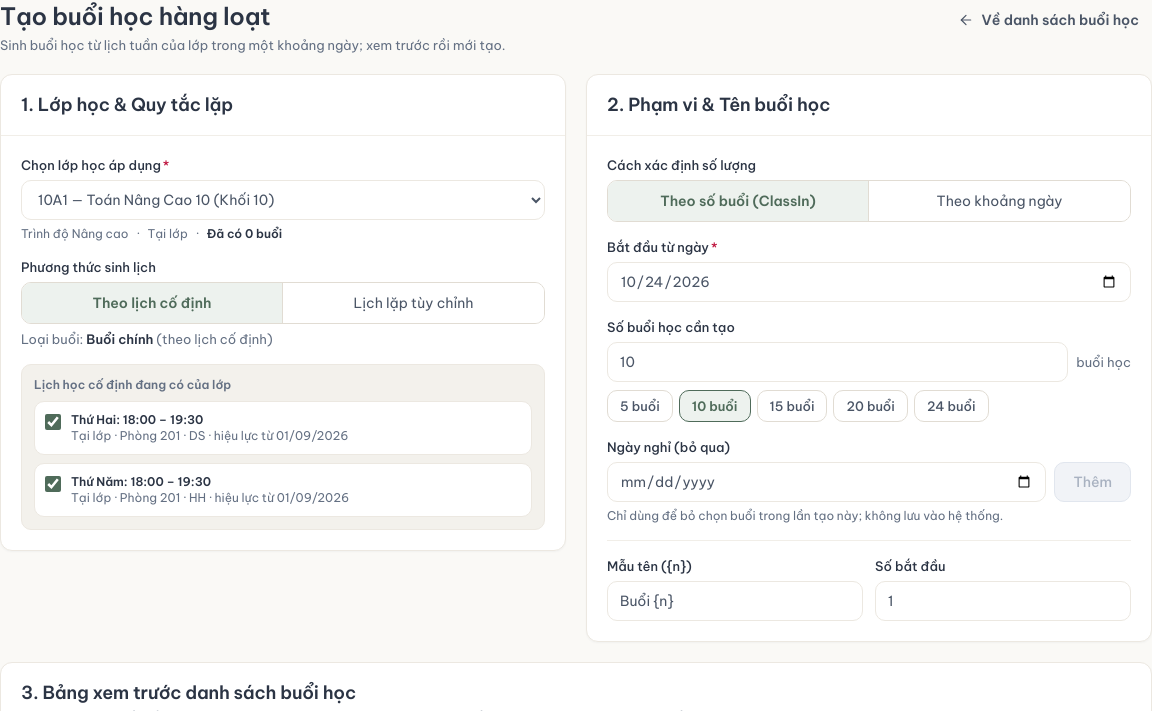
BatchSessionCreateWorkspace › switches to custom recurrence mode and updates preview
Note: Click "Lịch lặp tùy chỉnh"
What coordinates should you click on to do the following:
click the button "Lịch lặp tùy chỉnh"
I would click on:
 (414, 303)
Its box is top-left (283, 283), bottom-right (544, 323).
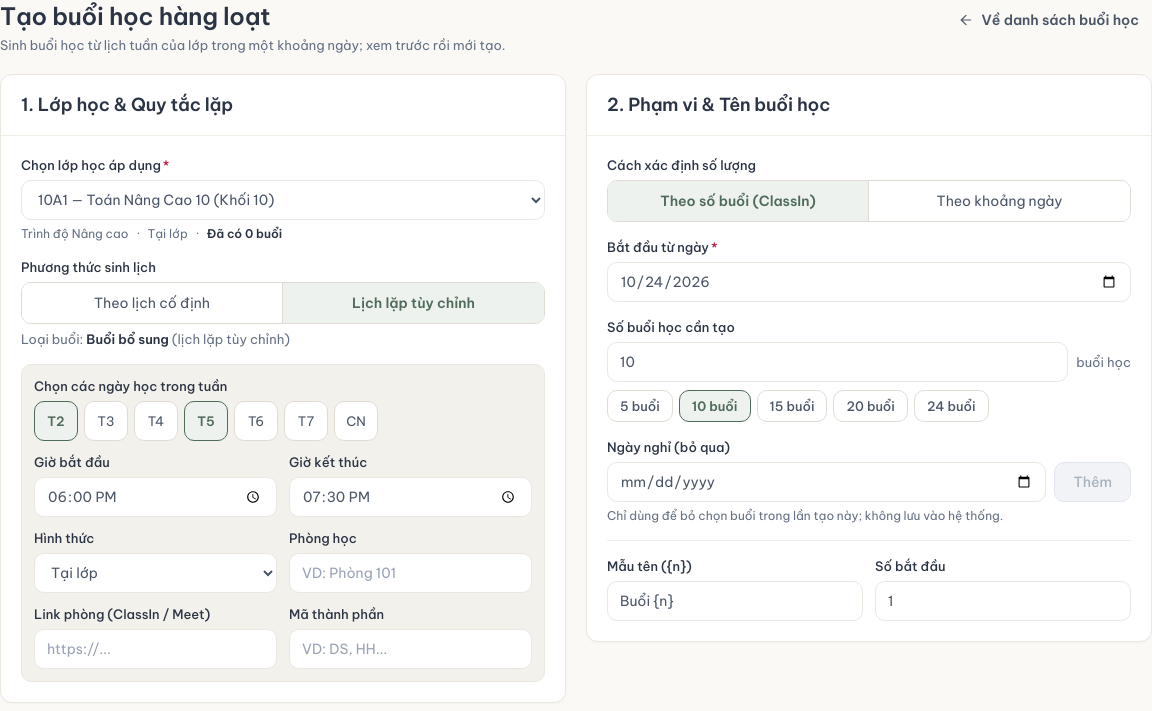
Expected: the text "Chọn các ngày học trong tuần" is shown, top-left (34, 378), bottom-right (227, 394)
Expected: the time field labelled "Giờ bắt đầu" is shown, top-left (34, 477), bottom-right (277, 517)
Expected: the time field labelled "Giờ kết thúc" is shown, top-left (289, 477), bottom-right (532, 517)
